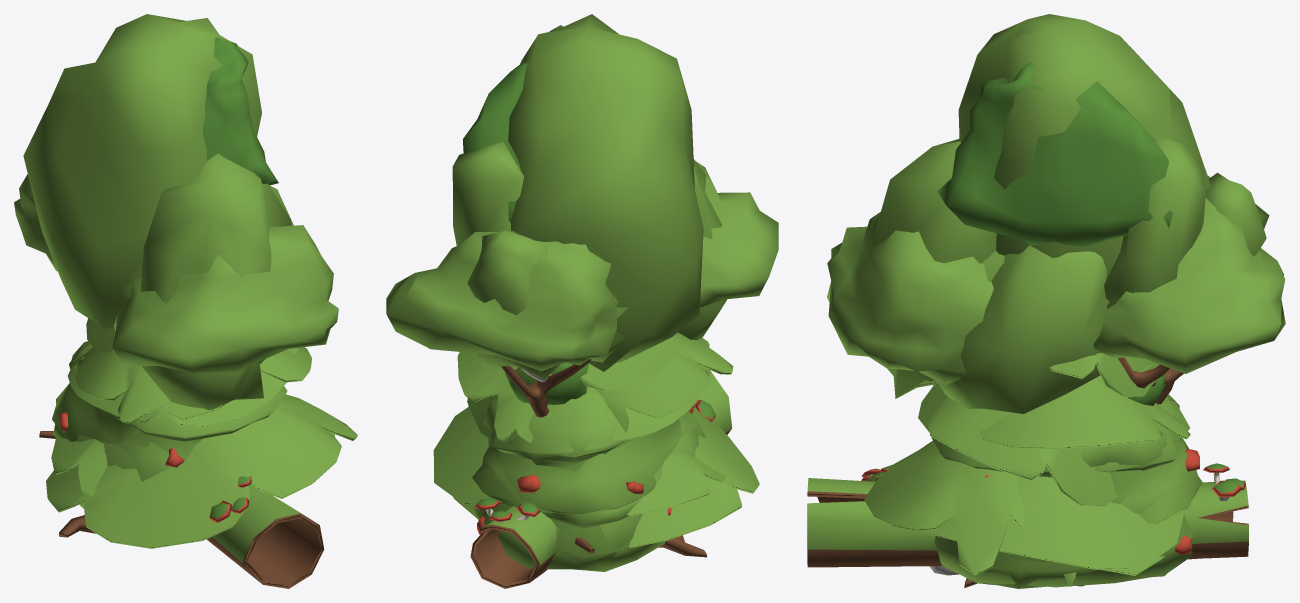
Rendered from props.glb.
3 views of the same model, side by side, from view 1: azimuth 30°, elevation 25°; view 2: azimuth 150°, elevation 25°; view 3: azimuth 270°, elevation 25° (orthographic). The views are drawn at different scales.
Parts seen in each view (by area): view 1: birch, pine_b, tree_a, log, tree_b, pine, bush_berries, bush; view 2: birch, tree_a, bush_berries, pine, pine_b, bush, log, tree_b, tree_c, stump; view 3: birch, tree_a, tree_b, pine_b, pine, log, bush_berries, bush.
Boxes of the visible parts, bbox=[...] form: birch: bbox=[23, 14, 293, 410]; pine_b: bbox=[46, 347, 357, 548]; tree_a: bbox=[14, 174, 338, 372]; log: bbox=[39, 383, 324, 588]; tree_b: bbox=[123, 38, 278, 302]; pine: bbox=[51, 318, 334, 496]; bush_berries: bbox=[52, 342, 287, 481]; bush: bbox=[53, 341, 273, 508]; birch: bbox=[452, 14, 726, 404]; tree_a: bbox=[386, 161, 778, 417]; bush_berries: bbox=[472, 394, 706, 570]; pine: bbox=[433, 337, 725, 516]; pine_b: bbox=[453, 332, 759, 547]; bush: bbox=[482, 392, 698, 571]; log: bbox=[470, 372, 732, 588]; tree_b: bbox=[463, 25, 563, 222]; tree_c: bbox=[476, 230, 628, 379]; stump: bbox=[658, 535, 707, 557]; birch: bbox=[871, 14, 1269, 575]; tree_a: bbox=[827, 175, 1285, 404]; tree_b: bbox=[937, 62, 1173, 246]; pine_b: bbox=[864, 353, 1164, 575]; pine: bbox=[918, 365, 1190, 569]; log: bbox=[807, 463, 1248, 567]; bush_berries: bbox=[934, 401, 1199, 587]; bush: bbox=[930, 394, 1202, 588].
Bounding box in the file's own units: 2.16 × 3.57 × 2.89.
